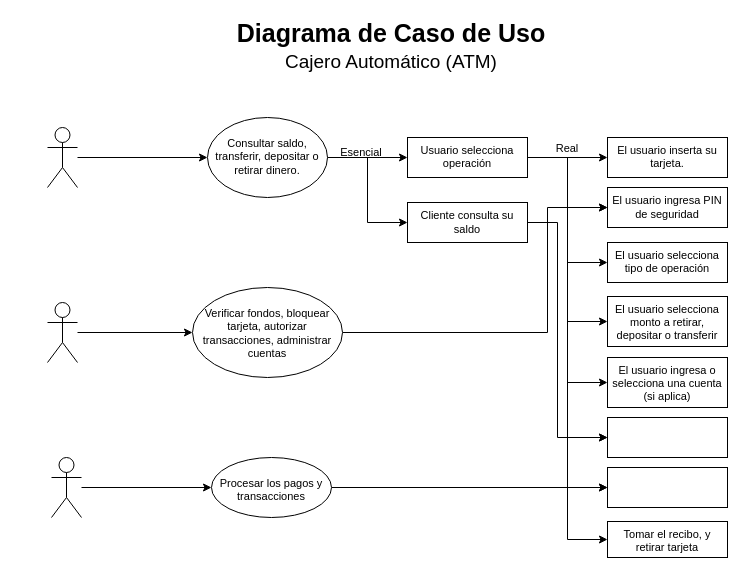
Image size: 745x579. Some labels were removed from this diagram. The centre of each missing label's shape, as x and y in pixels:
Banco: point (62, 332)
El sistema procesa y verifica la transacción: point (667, 487)
El usuario confirma la transacción: point (667, 437)
Sistema de transacciones: point (66, 487)
Usuario: point (62, 157)
